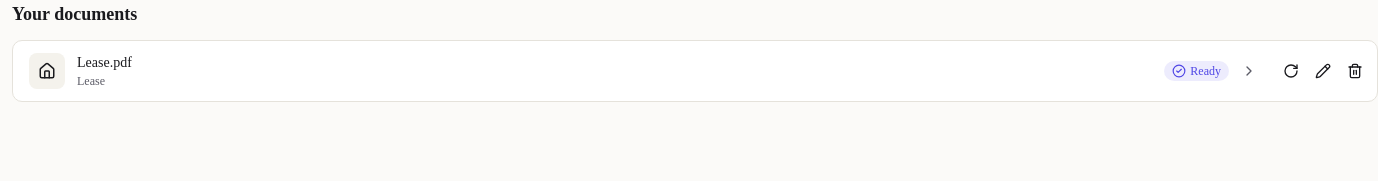
Test: DocumentList › editing › saves a new name, sending only the name, and hands back the updated document
Click the button named "Edit Lease.pdf". click: [1323, 71]
box: left=1309, top=57, right=1337, bottom=85
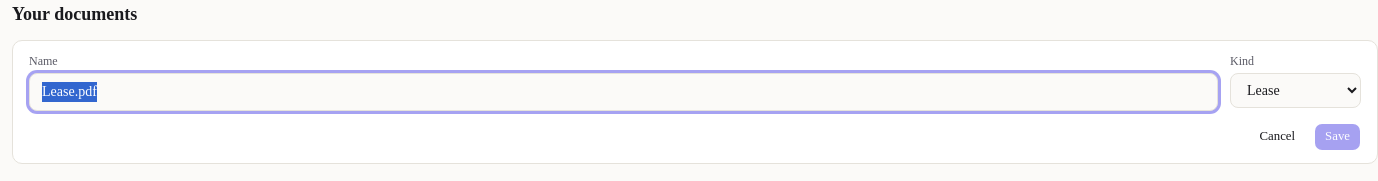
Replace the text in the field labelled "Name" with "Renamed.pdf". click: [624, 92]
box: left=29, top=73, right=1218, bottom=111
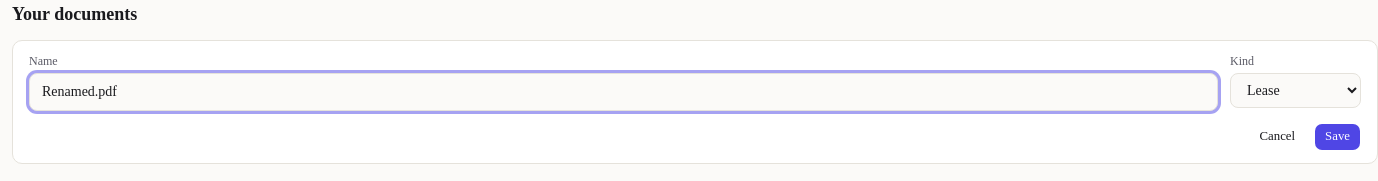
Click the button "Save". click: [1338, 137]
box: left=1314, top=123, right=1361, bottom=151
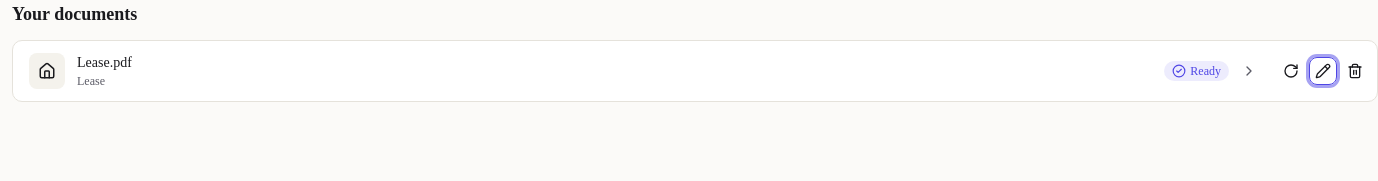
Check: the label labelled "Name" is gone
